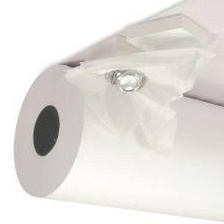tissue: (8, 58, 224, 224), (57, 37, 224, 163), (119, 10, 220, 64)
